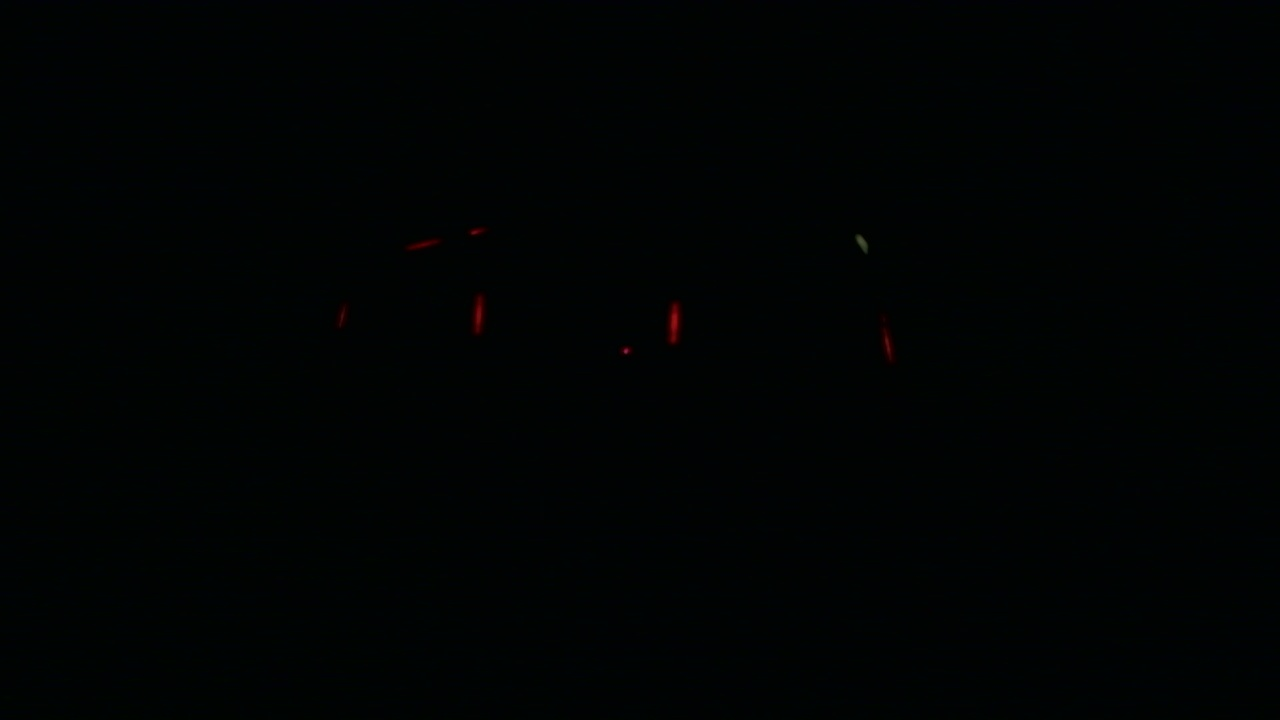lamp: (468, 295, 484, 346), (666, 292, 680, 341), (883, 327, 898, 363)
notpair2: (667, 295, 899, 363)
pair2: (469, 295, 682, 345)
